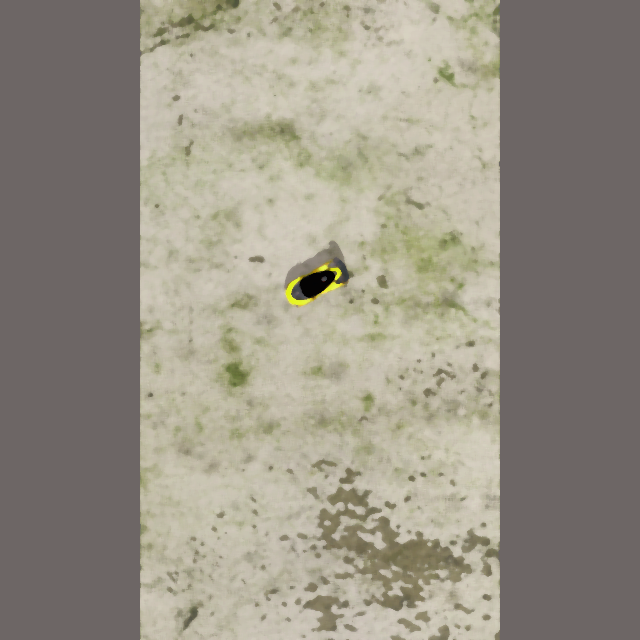car: (278, 254, 352, 312)
